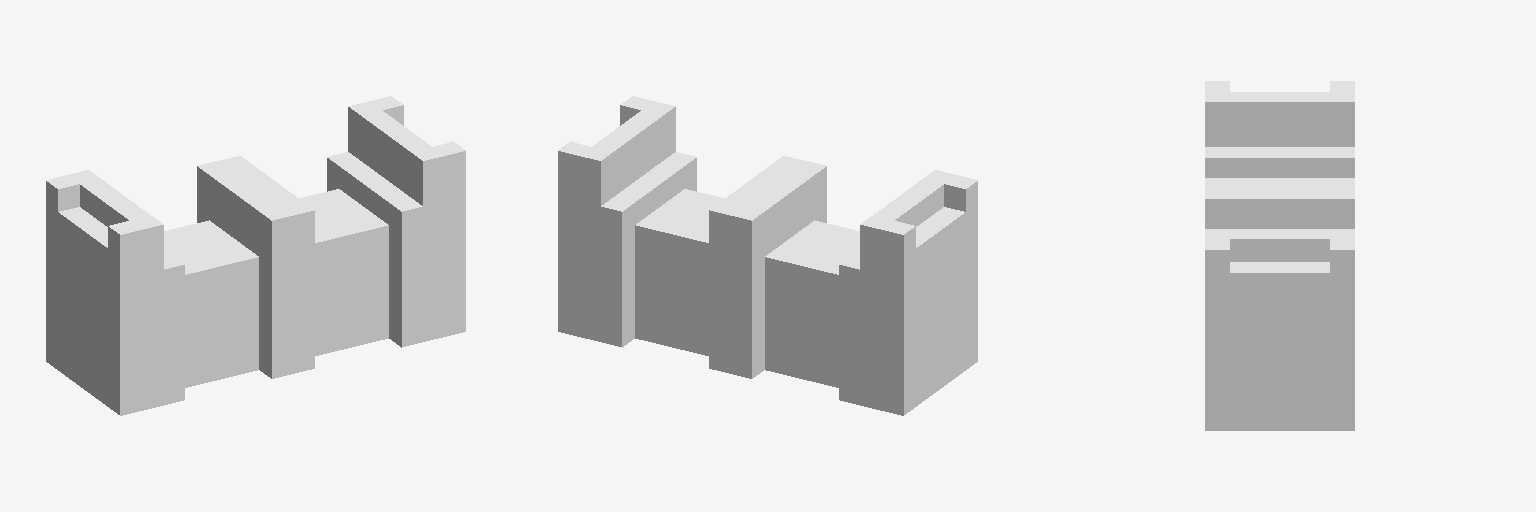
The model's file is deco_9.obj.
3 renders of one model, left to right at view 1: azimuth 30°, elevation 25°; view 2: azimuth 150°, elevation 25°; view 3: azimuth 270°, elevation 25°, orthographic.
Size of the model in its own units: 16 by 8 by 6.